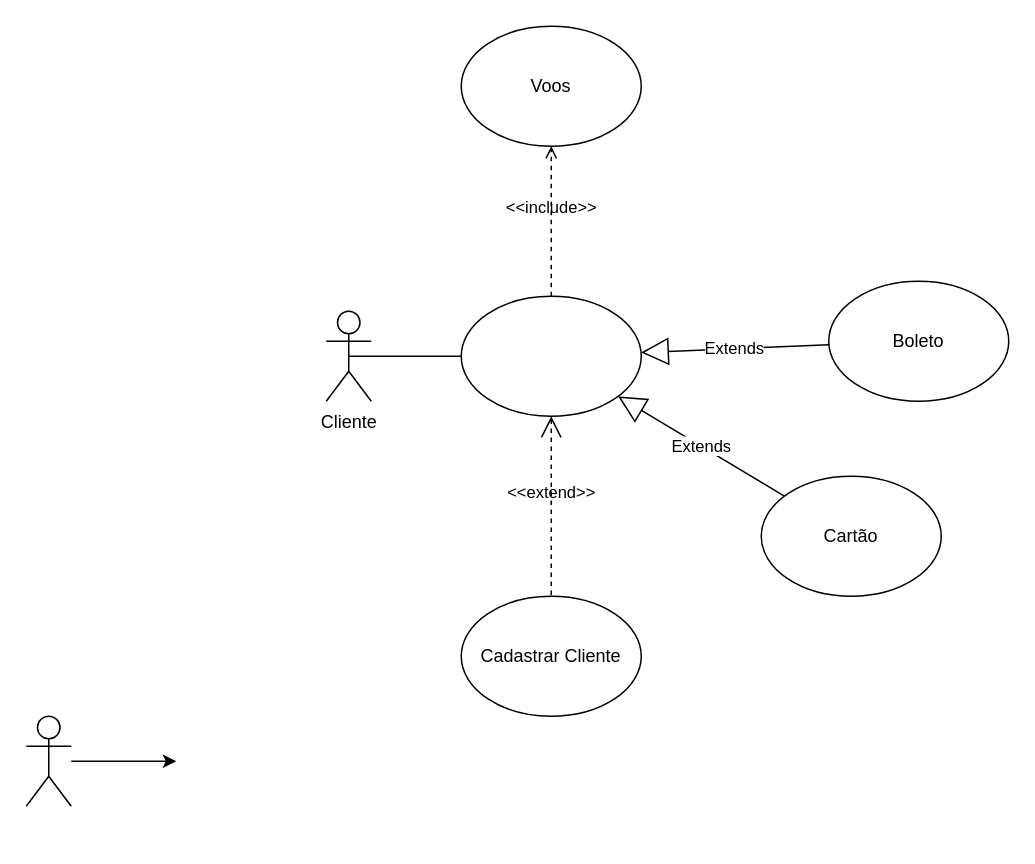
Image size: 1035x864. Some labels were removed from this diagram. Each missing label, with the box of its shape:
Actor: (25, 715, 71, 806)
Venda de Passagem: (460, 295, 641, 416)
